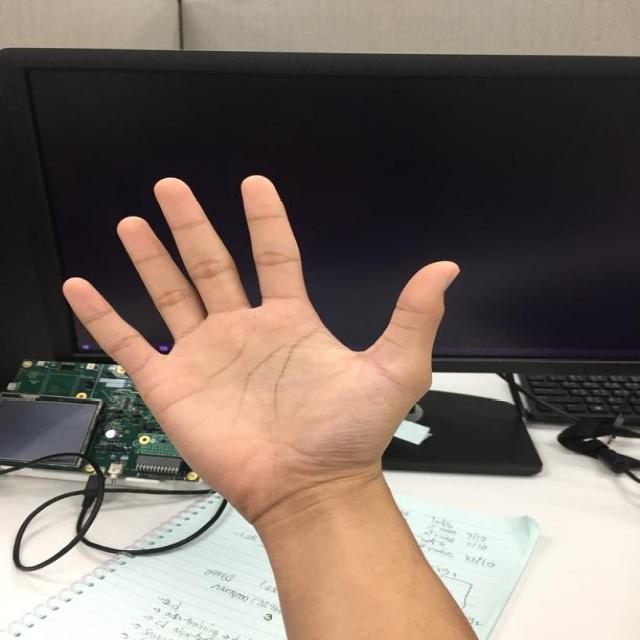hand: (62, 172, 461, 490)
